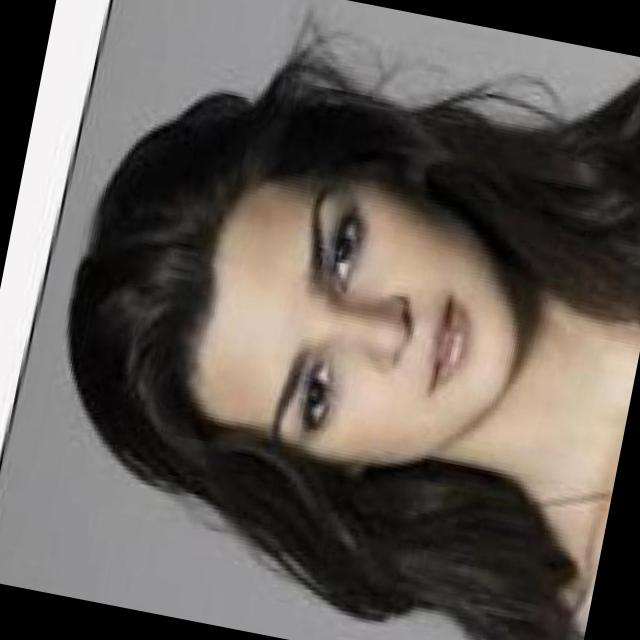bareface: (137, 127, 520, 480)
